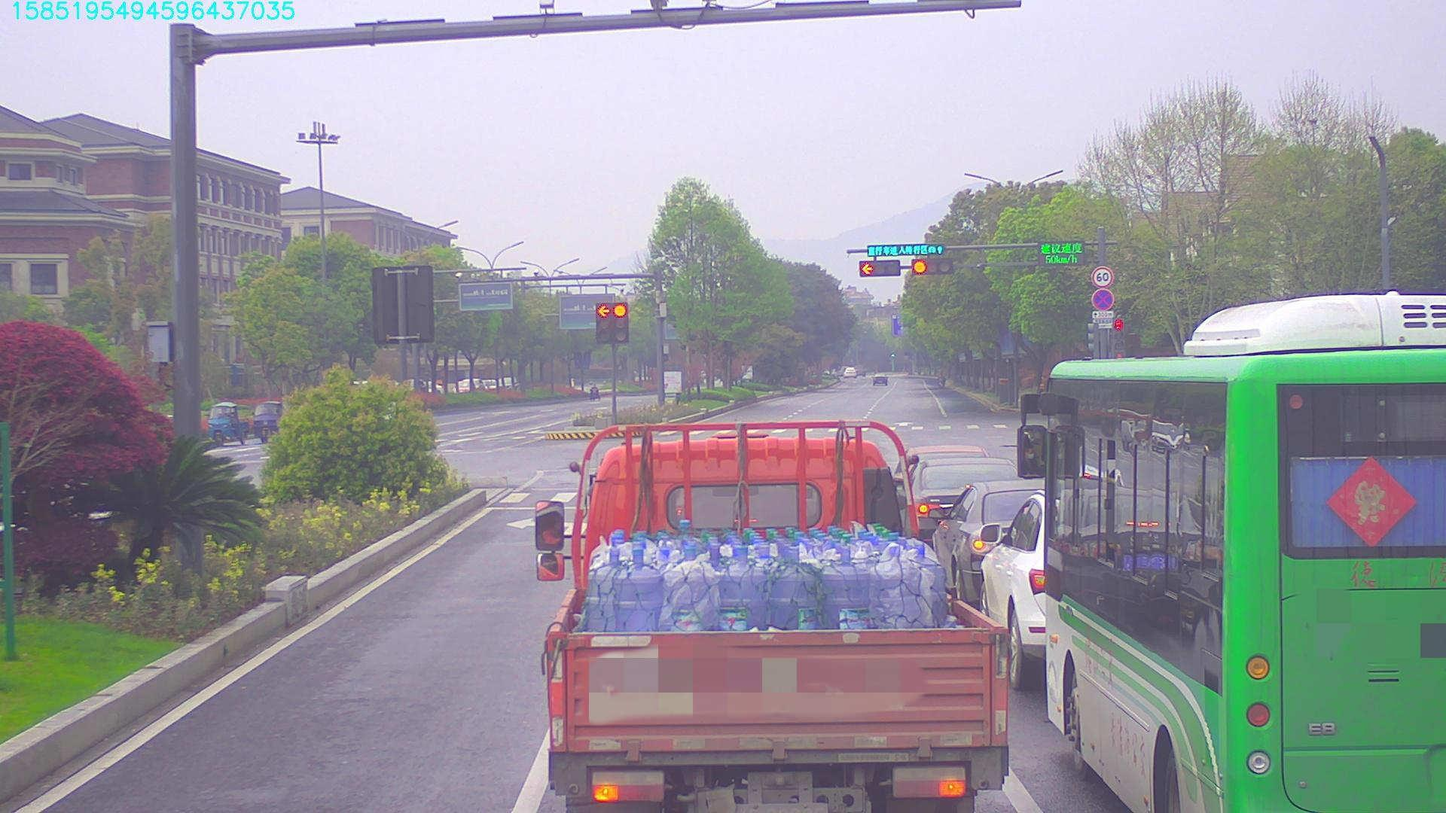red: (862, 261, 903, 279), (913, 260, 954, 276)
wait_on: (862, 242, 950, 254)
